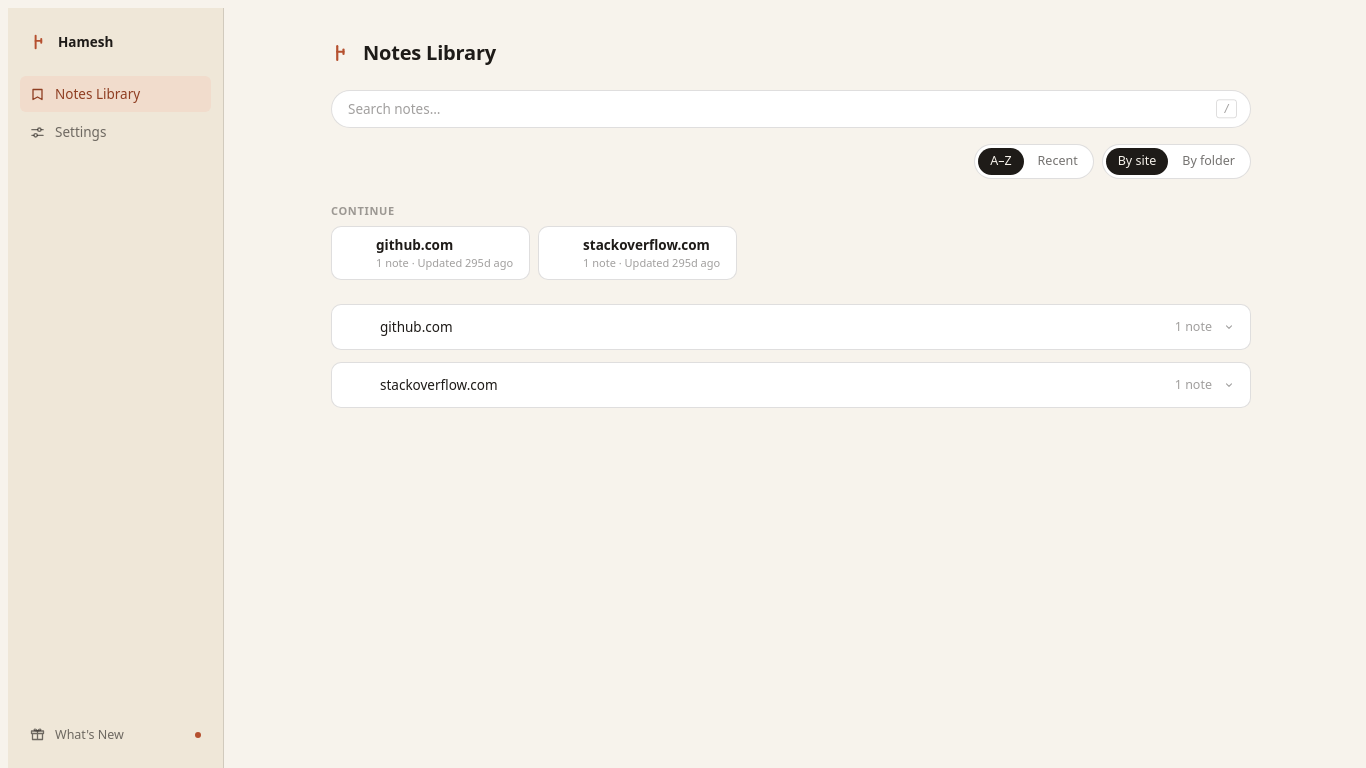
Test case: Notes Library page › search › live-filters the grouped list and hides the Continue section while searching
The width and height of the screenshot is (1366, 768).
Expected: the element "Continue" is shown, [331, 203, 737, 280]
Type "pull request" into the search field with placeholder "Search notes…" at (791, 109), box [331, 90, 1251, 128]
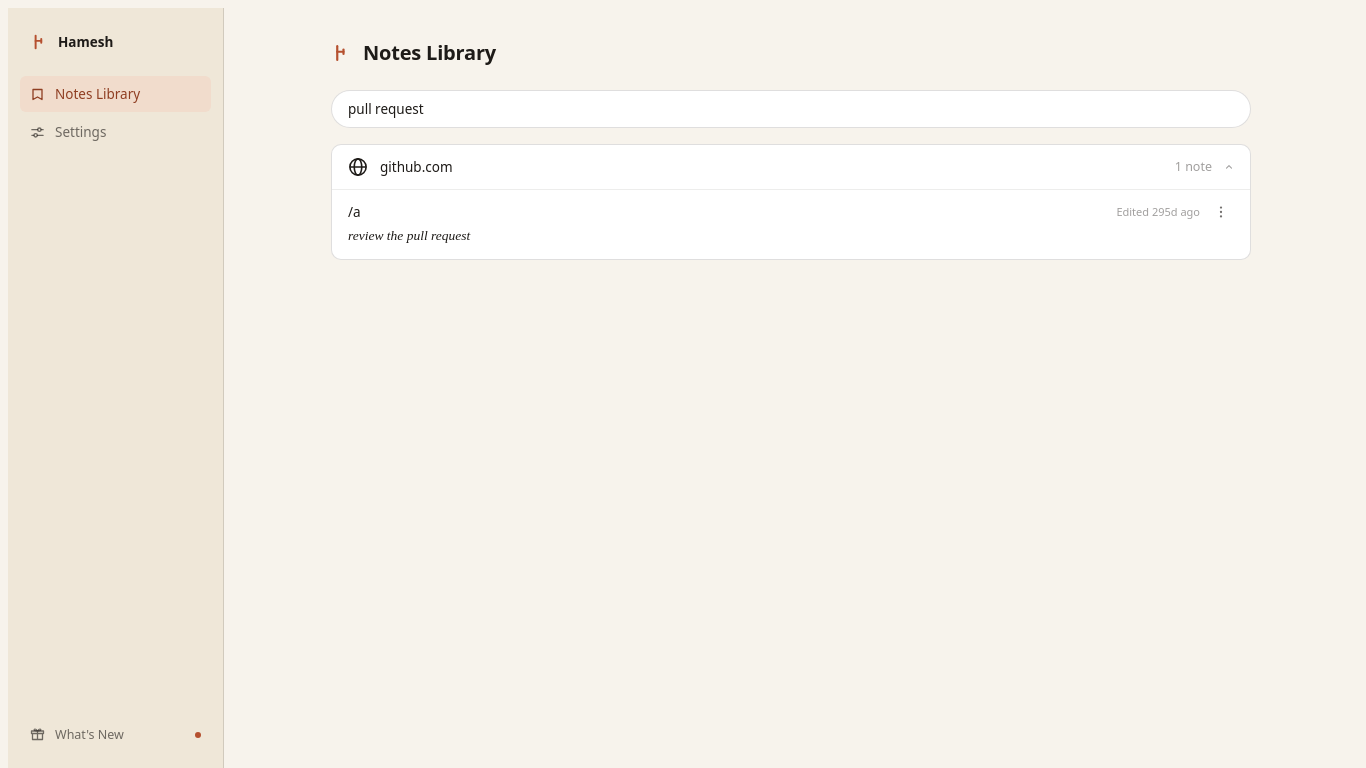
Expected: the button "github.com 1 note" is shown, [332, 145, 1250, 190]
Now the link "stackoverflow.com" is gone
Now the heading "Continue" is gone
